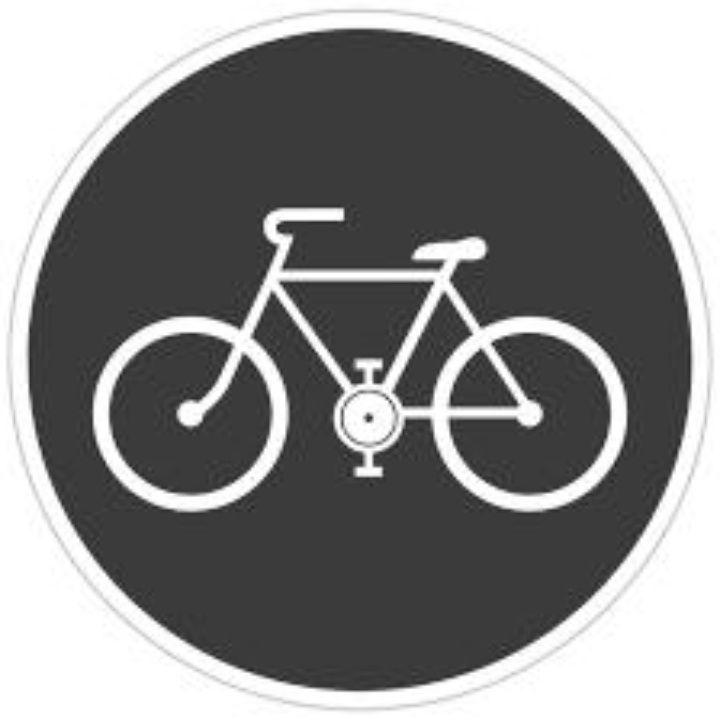bicycle: (64, 167, 623, 548)
